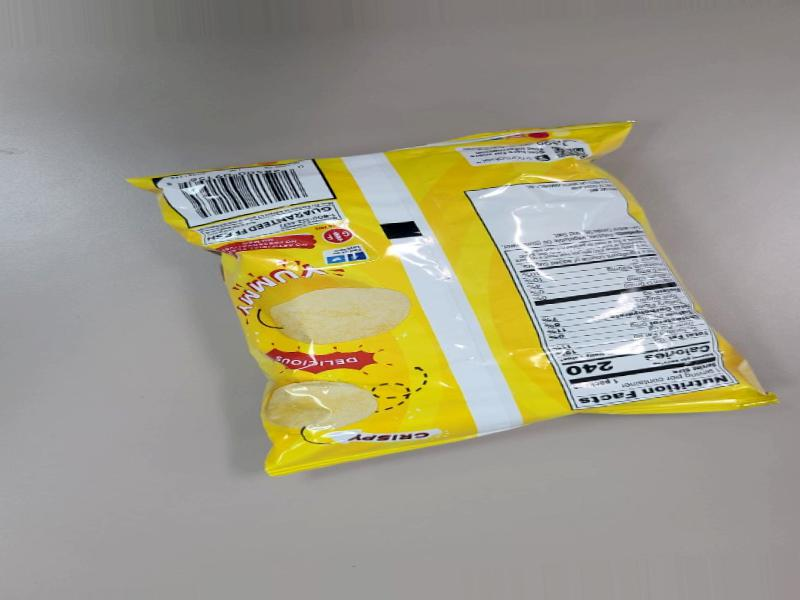lays: (179, 159, 800, 485)
